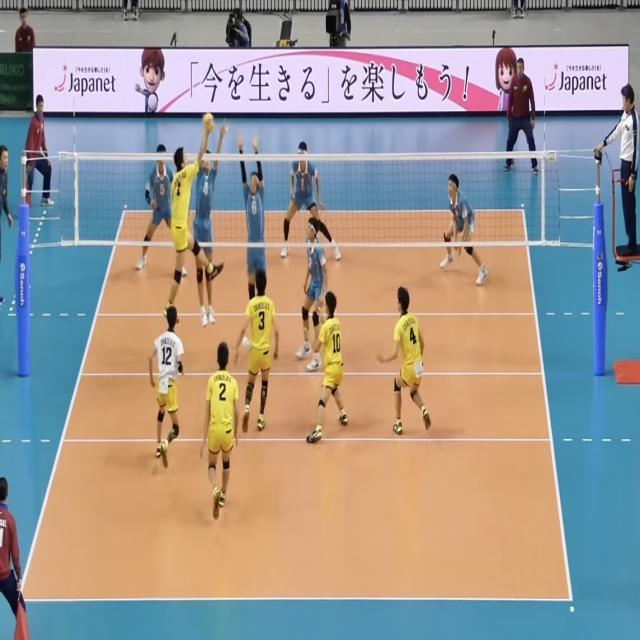spike: (162, 110, 225, 324)
